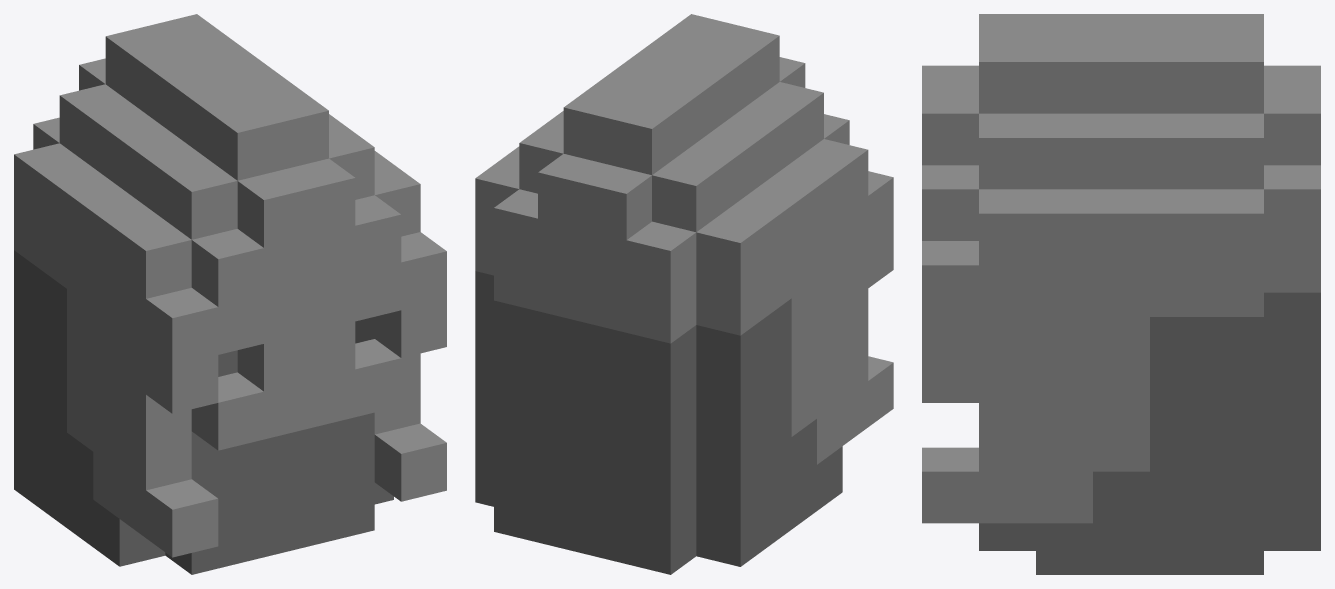
File: char-48-helm_hvy_2c_ja.obj
3 renders of one model, left to right at view 1: azimuth 30°, elevation 25°; view 2: azimuth 150°, elevation 25°; view 3: azimuth 270°, elevation 25°, orthographic. The views are drawn at different scales.
Parts seen in each view (by area): view 1: helm_hvy_2c_ja; view 2: helm_hvy_2c_ja; view 3: helm_hvy_2c_ja.
Boxes of the visible parts, x1=… form: helm_hvy_2c_ja: x1=14, y1=14, x2=446, y2=574; helm_hvy_2c_ja: x1=475, y1=14, x2=893, y2=574; helm_hvy_2c_ja: x1=922, y1=14, x2=1320, y2=574.
Bounding box in the file's own units: 0.6 × 0.9 × 0.7.
1 material, 1 textured.
